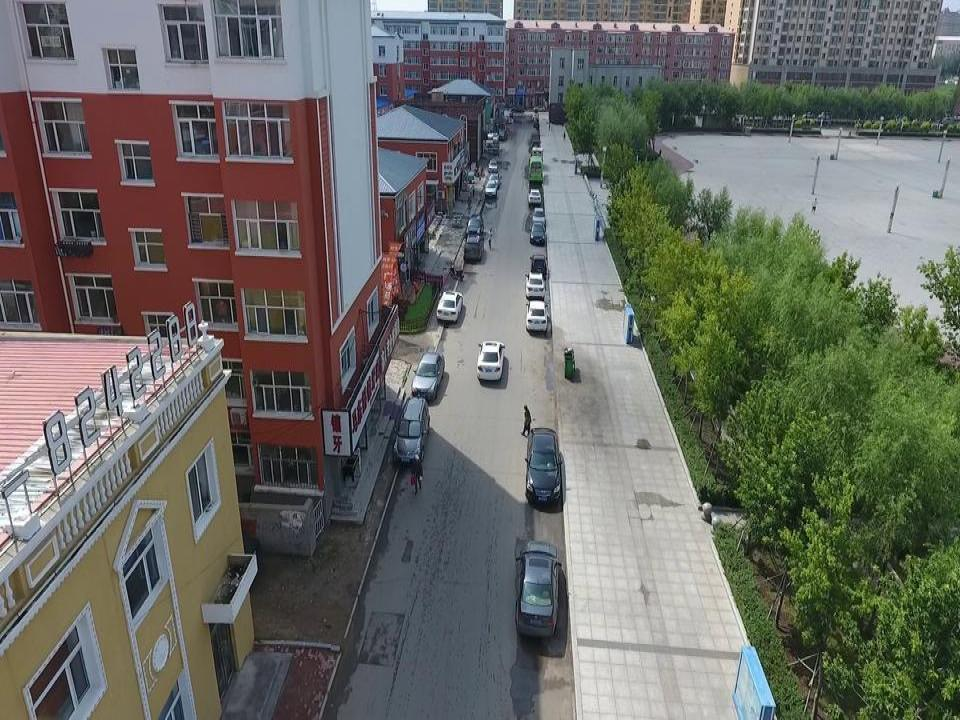bus: (526, 155, 544, 181)
car: (514, 540, 561, 639), (523, 426, 563, 510), (391, 393, 432, 464), (411, 348, 446, 400), (474, 341, 507, 383), (524, 299, 549, 333), (436, 289, 463, 320), (462, 235, 485, 264), (525, 272, 545, 299), (528, 221, 548, 247), (465, 216, 485, 233), (526, 189, 543, 204), (485, 180, 498, 197), (488, 172, 501, 188), (488, 158, 498, 170)
truck: (529, 145, 545, 159)
